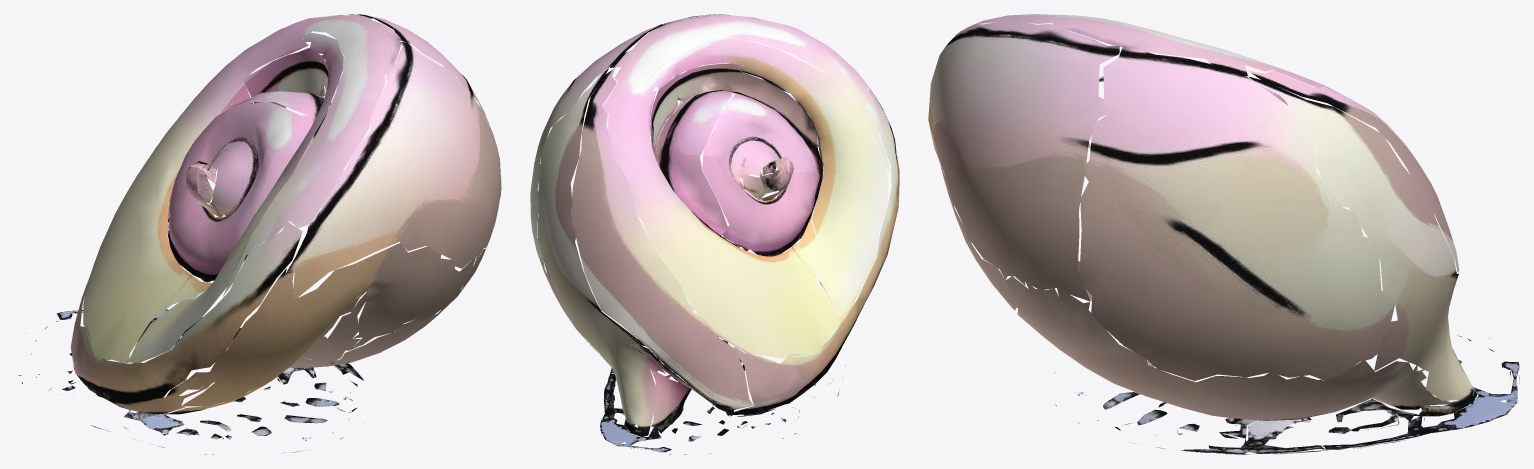
Rendered from dev_kabuk.glb.
The picture shows the model from 3 angles, left to right: view 1: azimuth 30°, elevation 25°; view 2: azimuth 150°, elevation 25°; view 3: azimuth 270°, elevation 25°; orthographic projection. The views are drawn at different scales.
Visible parts, largest first — view 1: geometry_0; view 2: geometry_0; view 3: geometry_0.
Boxes of the visible parts, box(x1,y1,x2,y2) form: geometry_0: box(18, 14, 501, 454); geometry_0: box(530, 14, 899, 454); geometry_0: box(928, 14, 1519, 454).
Size of the model in its own units: 0.8402 by 0.7907 by 0.9966.
Materials: 1 (1 with a texture image).
